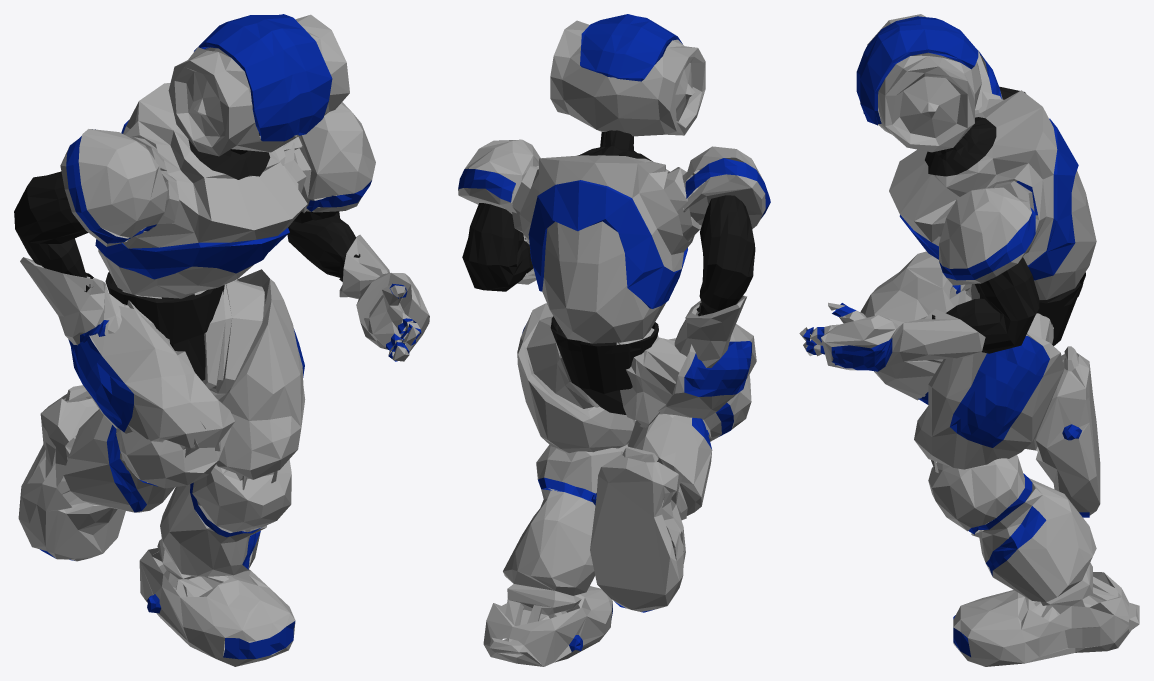
File: run12.obj
The picture shows the model from 3 angles, left to right: view 1: azimuth 30°, elevation 25°; view 2: azimuth 150°, elevation 25°; view 3: azimuth 270°, elevation 25°; orthographic projection. The views are drawn at different scales.
Visible parts, largest first — view 1: Robot2.001_Robot2Mesh.000, Robot2_Robot2Mesh.004, Robot2.002_Robot2Mesh.001; view 2: Robot2.001_Robot2Mesh.000, Robot2_Robot2Mesh.004, Robot2.002_Robot2Mesh.001; view 3: Robot2.001_Robot2Mesh.000, Robot2_Robot2Mesh.004, Robot2.002_Robot2Mesh.001.
Part boxes in pixels (x1,y1,x2,y2): Robot2.001_Robot2Mesh.000: (18,14,429,666); Robot2_Robot2Mesh.004: (40,14,421,659); Robot2.002_Robot2Mesh.001: (14,133,360,380); Robot2.001_Robot2Mesh.000: (458,20,765,666); Robot2_Robot2Mesh.004: (458,14,770,651); Robot2.002_Robot2Mesh.001: (462,130,755,414); Robot2.001_Robot2Mesh.000: (799,14,1139,666); Robot2_Robot2Mesh.004: (803,16,1089,656); Robot2.002_Robot2Mesh.001: (925,86,1085,353).
Size of the model in its own units: 1 by 1.89 by 0.95.
